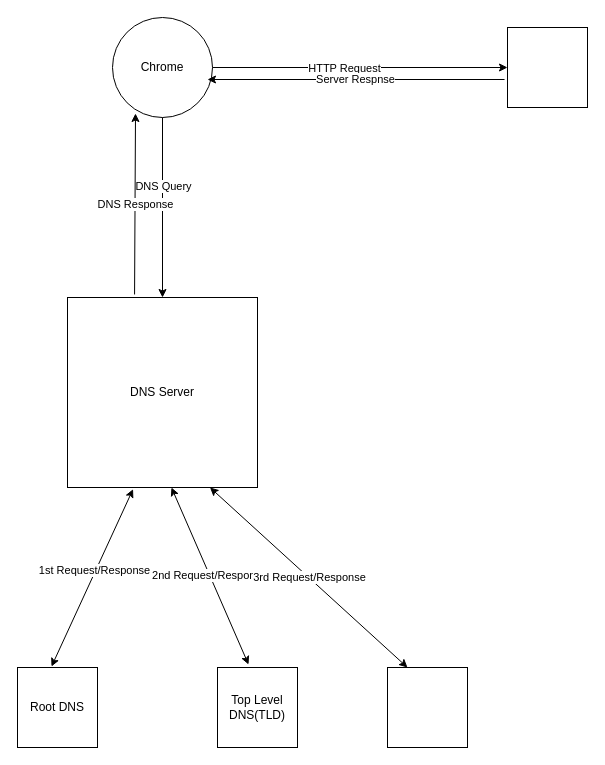
Image size: 605x765. Some labels were removed from this diagram. The shapes that lost their labels are listed below. From the top down, each one's box as (x1, y1, x2, y2) in pixels, then its label:
(506, 26, 588, 108): Server
(386, 666, 468, 748): Authoritative DNS Server
